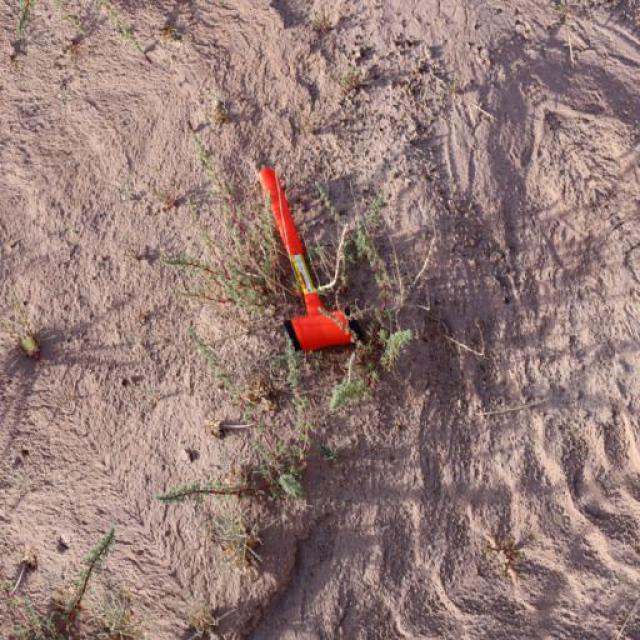mallet: (255, 164, 359, 352)
